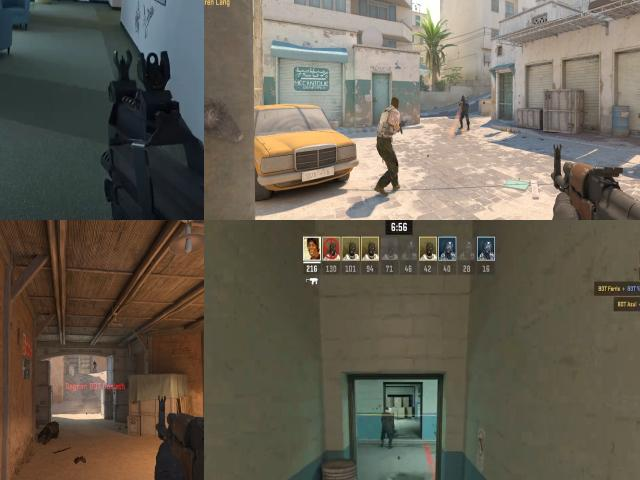CT: (381, 406, 392, 442), (460, 95, 470, 124), (93, 360, 97, 373)
CT-Head: (384, 406, 391, 420), (462, 96, 467, 103), (94, 360, 95, 362)
Dead: (38, 420, 61, 442)
T: (380, 98, 402, 190)
T-Head: (389, 98, 400, 113)
